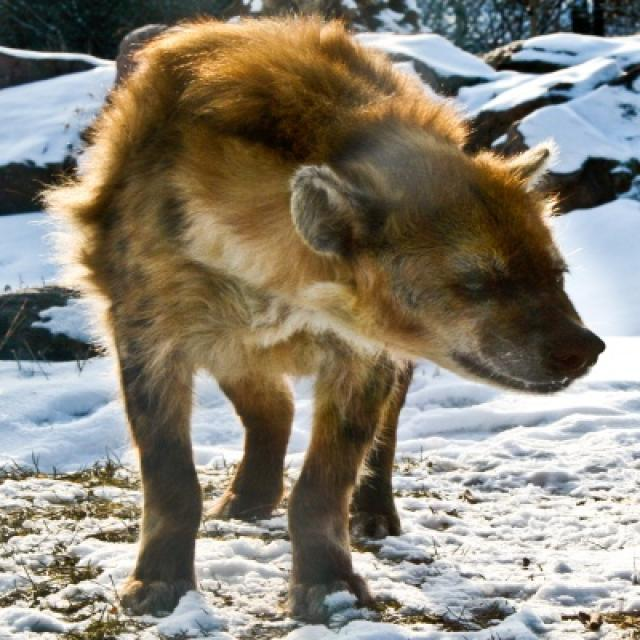hyena: (42, 14, 610, 638)
